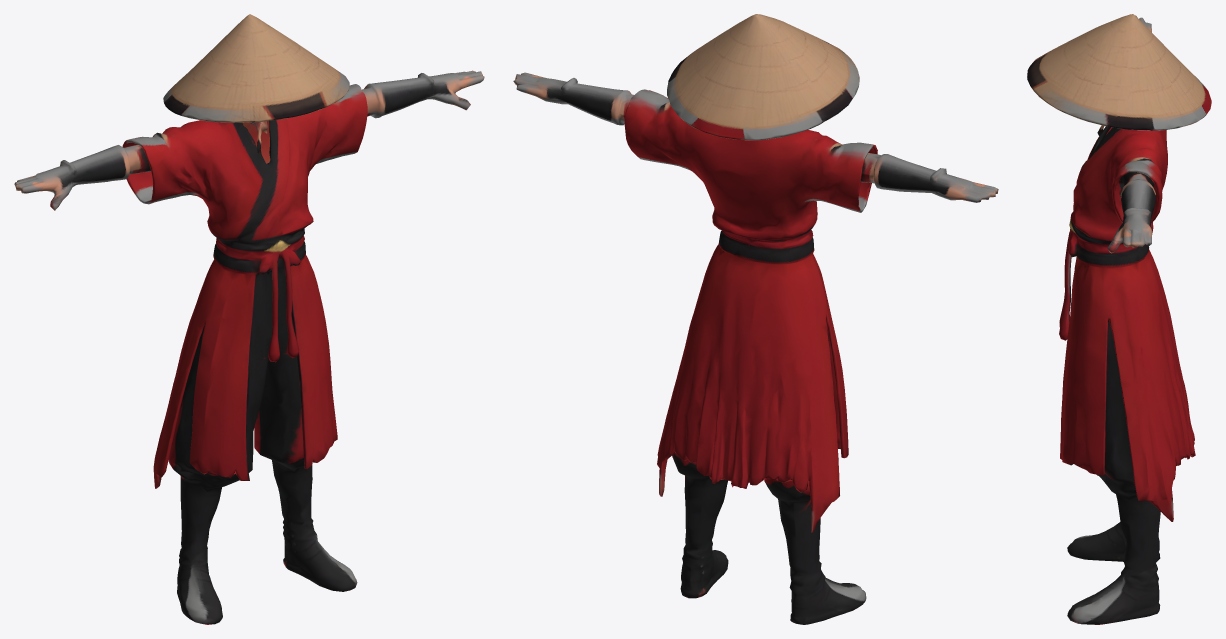
The model's file is sword_D_h25.glb.
The picture shows the model from 3 angles, left to right: view 1: azimuth 30°, elevation 25°; view 2: azimuth 150°, elevation 25°; view 3: azimuth 270°, elevation 25°; orthographic projection. The views are drawn at different scales.
Parts seen in each view (by area): view 1: tripo_node_72bdba61-9037-4709-b7f7-a8cf2c937b66; view 2: tripo_node_72bdba61-9037-4709-b7f7-a8cf2c937b66; view 3: tripo_node_72bdba61-9037-4709-b7f7-a8cf2c937b66.
Part boxes in pixels (<box>): tripo_node_72bdba61-9037-4709-b7f7-a8cf2c937b66: <box>14,14,484,624</box>; tripo_node_72bdba61-9037-4709-b7f7-a8cf2c937b66: <box>513,14,998,624</box>; tripo_node_72bdba61-9037-4709-b7f7-a8cf2c937b66: <box>1027,14,1211,624</box>.
Bounding box in the file's own units: 0.855 × 1 × 0.2931.
1 material, 1 textured.
